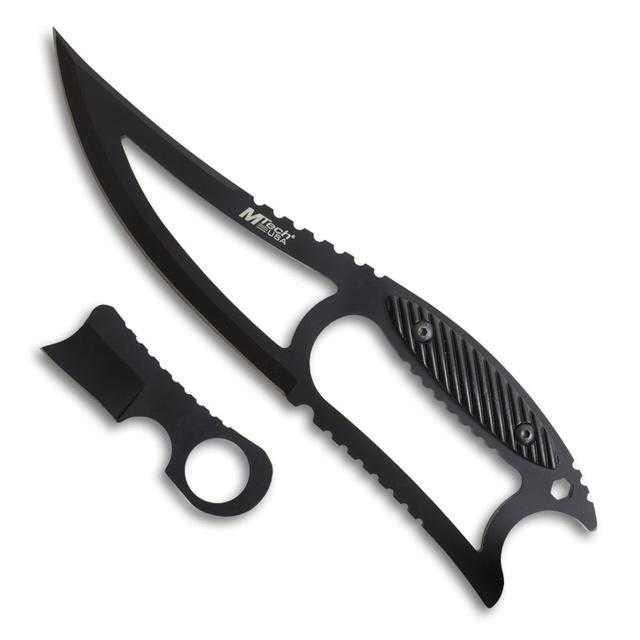Knife: (38, 20, 607, 613)
